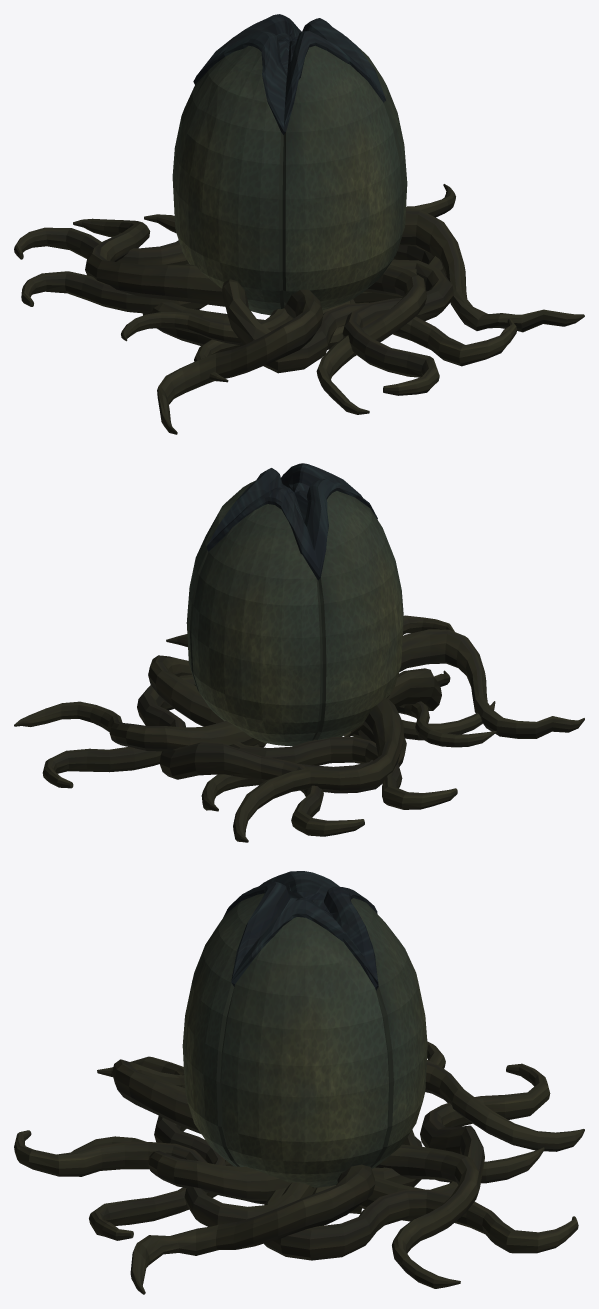
Rendered from alien_egg_0505.fbx.
The picture shows the model from 3 angles, top to bottom: view 1: azimuth 30°, elevation 25°; view 2: azimuth 150°, elevation 25°; view 3: azimuth 270°, elevation 25°; orthographic projection. The views are drawn at different scales.
Parts seen in each view (by area): view 1: Sphere001; view 2: Sphere001; view 3: Sphere001.
Part boxes in pixels (bbox=[...]): Sphere001: bbox=[14, 14, 584, 434]; Sphere001: bbox=[14, 463, 584, 842]; Sphere001: bbox=[14, 871, 584, 1294].
Size of the model in its own units: 145 by 93.7 by 153.
1 material, 1 textured.
